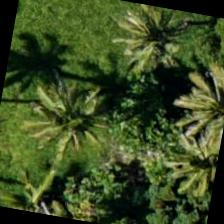Kelapa_Sawit: (22, 75, 126, 178), (102, 0, 206, 98), (146, 126, 221, 223), (169, 60, 223, 159)
